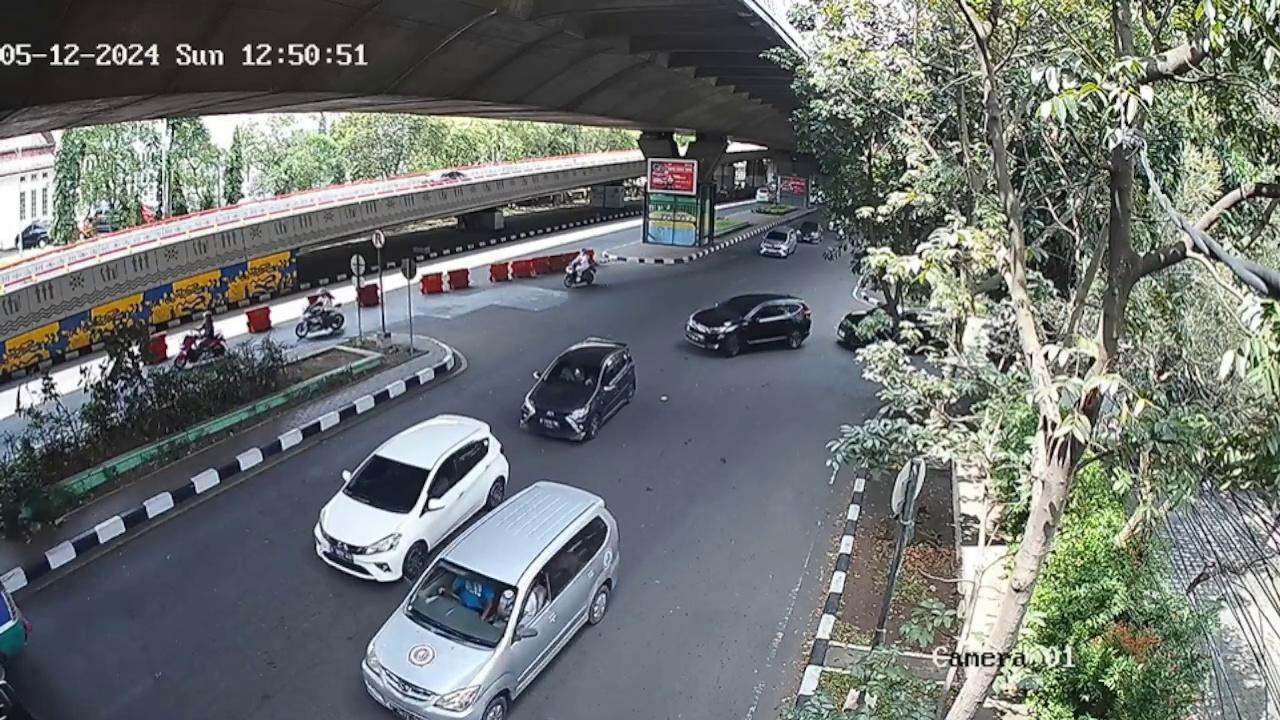pakai: (452, 574, 492, 613), (498, 591, 512, 627), (559, 366, 585, 383)
windshield: (414, 558, 516, 652), (342, 453, 434, 519), (543, 358, 602, 393)
